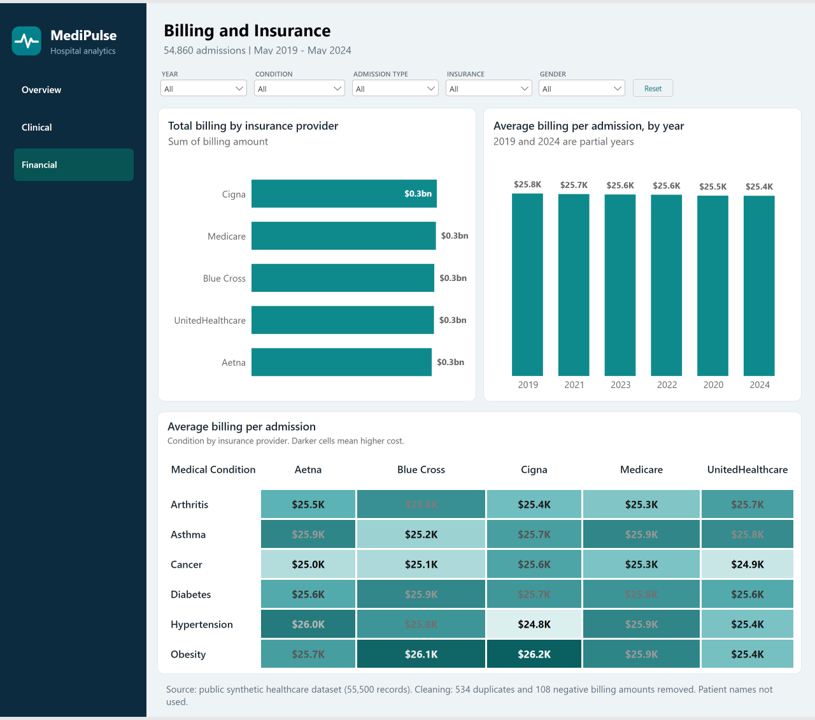

This screenshot's page, from the dashboard's own definition file:
{"tool":"powerbi","page":{"name":"Financial","canvas":[1280,1120],"ordinal":2},"visuals":[{"type":"shape","box":[0,0,230,1330],"z":0},{"type":"textbox","box":[247,15,489,53],"z":0,"group":"g1"},{"type":"image","box":[8.9,27.9,66,62],"z":0,"group":"g7"},{"type":"slicer","title":"YEAR","fields":{"Values":["Dim_Date.Year"]},"box":[247.5,115,146,37],"z":0,"group":"g2"},{"type":"slicer","title":"YEAR","fields":{"Values":["Fact_Admissions.Medical Condition"]},"box":[394.2,115,153,37],"z":0,"group":"g3"},{"type":"slicer","title":"YEAR","fields":{"Values":["Fact_Admissions.Admission Type"]},"box":[548,115,146,37],"z":0,"group":"g4"},{"type":"slicer","title":"YEAR","fields":{"Values":["Fact_Admissions.Insurance Provider"]},"box":[694.7,115,146,37],"z":0,"group":"g5"},{"type":"slicer","title":"YEAR","fields":{"Values":["Fact_Admissions.Gender"]},"box":[841.5,115,146,37],"z":0,"group":"g6"},{"type":"group","id":"g1","title":"Group 1","box":[247,15,492.7,65.5],"z":1000},{"type":"textbox","box":[69.4,26.7,152.9,64.4],"z":1000,"group":"g7"},{"type":"textbox","box":[247.2,54.3,492.5,26.2],"z":1000,"group":"g1"},{"type":"textbox","box":[254.3,99,132.3,20.7],"z":1000,"group":"g2"},{"type":"textbox","box":[401.4,99,138.7,20.7],"z":1000,"group":"g3"},{"type":"textbox","box":[554.8,99,132.3,20.7],"z":1000,"group":"g4"},{"type":"textbox","box":[701.5,99,132.3,20.7],"z":1000,"group":"g5"},{"type":"textbox","box":[848.3,99,132.3,20.7],"z":1000,"group":"g6"},{"type":"group","id":"g2","title":"Group 2","box":[247.5,99,146,53],"z":2000},{"type":"group","id":"g3","title":"Group 2","box":[394.2,99,153,53],"z":3000},{"type":"group","id":"g4","title":"Group 2","box":[548,99,146,53],"z":4000},{"type":"group","id":"g5","title":"Group 2","box":[694.7,99,146,53],"z":5000},{"type":"group","id":"g6","title":"Group 2","box":[841.5,99,146,53],"z":6000},{"type":"actionButton","box":[992.7,118.2,65.5,30],"z":7000},{"type":"group","id":"g7","title":"Group 3","box":[8.9,26.7,213.3,64.4],"z":8000},{"type":"clusteredColumnChart","title":"Average billing per admission, by year","fields":{"Category":["Dim_Date.Year"],"Y":["Measures Table.Avg Billing"]},"box":[758.9,164.4,500,461.1],"z":9000},{"type":"pivotTable","title":"Average billing per admission","fields":{"Columns":["Fact_Admissions.Insurance Provider"],"Rows":["Fact_Admissions.Medical Condition"],"Values":["Measures Table.Avg Billing"]},"box":[246.7,641.1,1012.2,412.2],"z":10000},{"type":"clusteredBarChart","title":"Total billing by insurance provider","fields":{"Category":["Fact_Admissions.Insurance Provider"],"Y":["Measures Table.Total Billing"]},"box":[247.8,164.4,500,461.1],"z":11000},{"type":"pageNavigator","box":[12,102,208,187],"z":12000},{"type":"textbox","box":[251.1,1057.8,1007.8,62.2],"z":12001}]}

Visuals, with their boxes on the page's 1280x1120 design canvas (x1, y1, x2, y2). These are canvas units, not pixel positions in the 815x720 screenshot, which may show the page scaled, cropped or inside an application window:
shape: 0, 0, 230, 1330
textbox: 247, 15, 736, 68
image: 9, 28, 75, 90
"YEAR" slicer: 248, 115, 394, 152
"YEAR" slicer: 394, 115, 547, 152
"YEAR" slicer: 548, 115, 694, 152
"YEAR" slicer: 695, 115, 841, 152
"YEAR" slicer: 842, 115, 988, 152
"Group 1" group: 247, 15, 740, 80
textbox: 69, 27, 222, 91
textbox: 247, 54, 740, 80
textbox: 254, 99, 387, 120
textbox: 401, 99, 540, 120
textbox: 555, 99, 687, 120
textbox: 702, 99, 834, 120
textbox: 848, 99, 981, 120
"Group 2" group: 248, 99, 394, 152
"Group 2" group: 394, 99, 547, 152
"Group 2" group: 548, 99, 694, 152
"Group 2" group: 695, 99, 841, 152
"Group 2" group: 842, 99, 988, 152
actionButton: 993, 118, 1058, 148
"Group 3" group: 9, 27, 222, 91
"Average billing per admission, by year" clusteredColumnChart: 759, 164, 1259, 626
"Average billing per admission" pivotTable: 247, 641, 1259, 1053
"Total billing by insurance provider" clusteredBarChart: 248, 164, 748, 626
pageNavigator: 12, 102, 220, 289
textbox: 251, 1058, 1259, 1120
